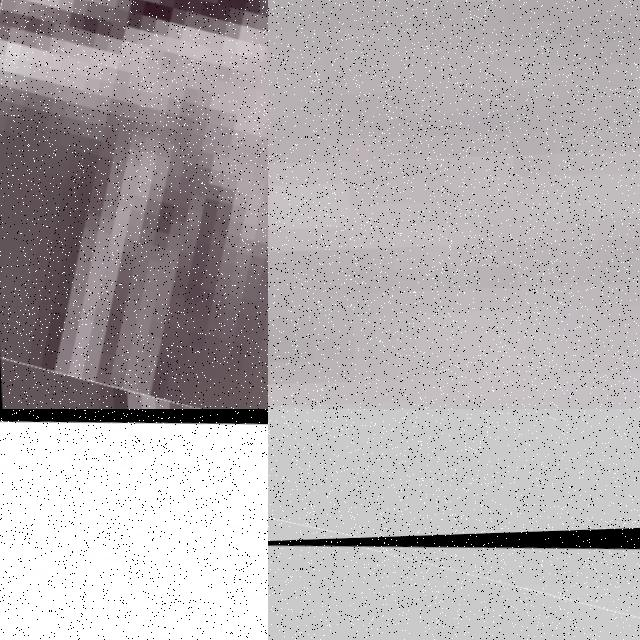drone: (0, 0, 268, 409), (0, 409, 268, 640), (268, 522, 640, 640)
